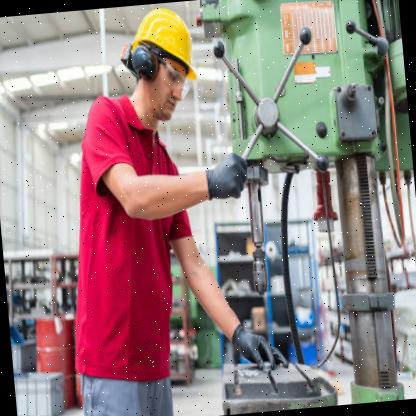capacete: (125, 1, 202, 88)
oculos: (161, 55, 192, 104)
